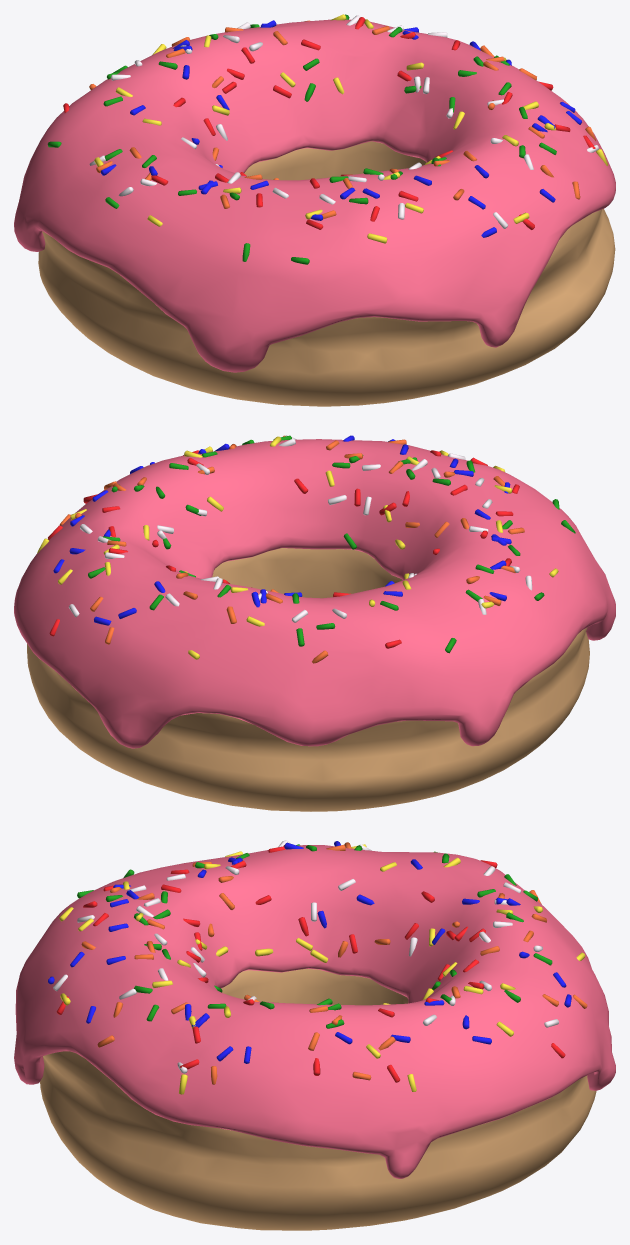
Rendered from DOUGHNUT.fbx.
3 views of the same model, one above another, from view 1: azimuth 30°, elevation 25°; view 2: azimuth 150°, elevation 25°; view 3: azimuth 270°, elevation 25° (orthographic). The views are drawn at different scales.
Parts seen in each view (by area): view 1: Icing.001; view 2: Icing.001; view 3: Icing.001.
Part boxes in pixels (box(x1,y1,x2,y2)): Icing.001: box(14, 14, 615, 406); Icing.001: box(14, 435, 615, 811); Icing.001: box(14, 840, 615, 1230).
Size of the model in its own units: 10.56 by 4.29 by 10.65.
